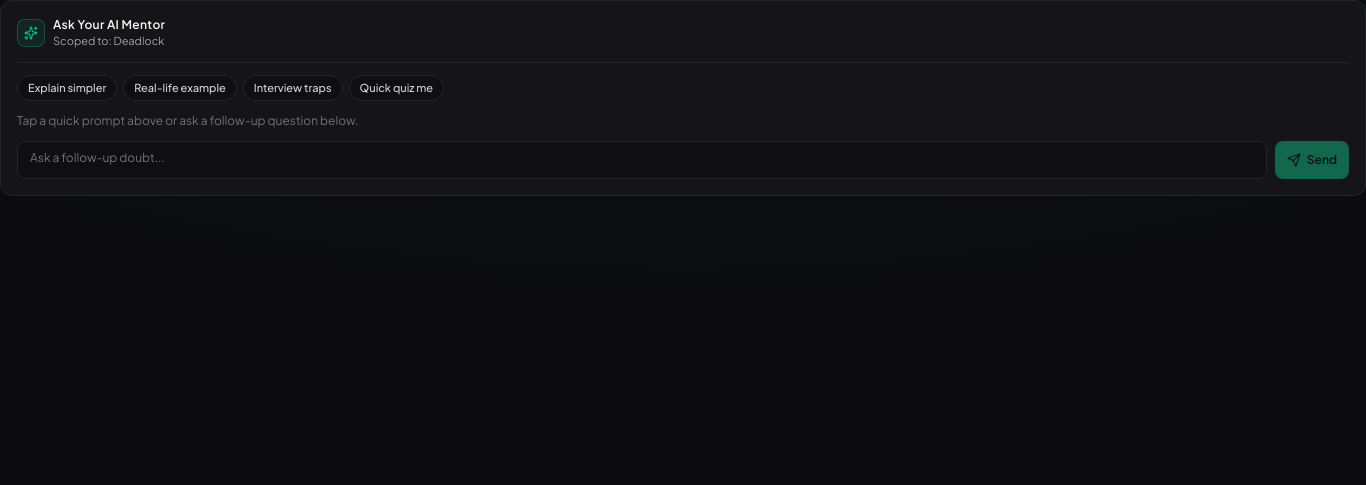
Scenario: <AiTutorChat /> › renders structured markdown formatting including bold, inline code, and lists without raw asterisks
Step 1. Click the button "Explain simpler" → (67, 88), box [17,74,117,101]
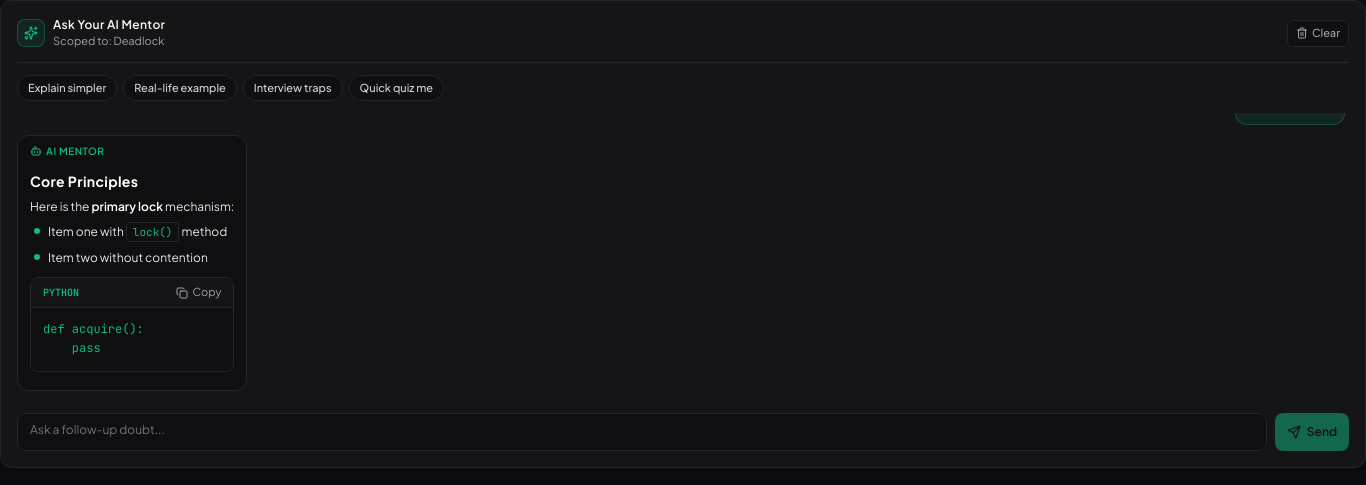
Result: the heading "Core Principles" is shown at [30,172,138,190]
Result: the text "primary lock" is shown at [92,198,163,214]
Result: the text "lock()" is shown at [126,222,180,242]
